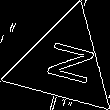N_W: (34, 38, 93, 89)
